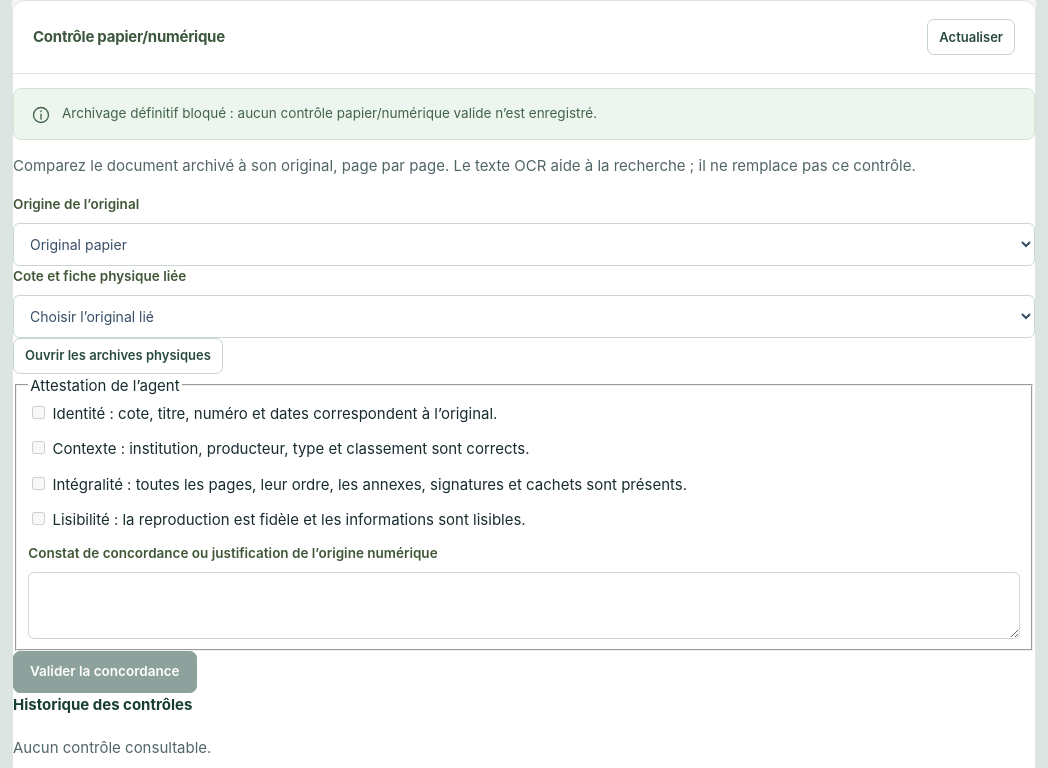
Test case: explique le blocage et présente la cote et le chemin physique complet
The width and height of the screenshot is (1048, 768).
Select "M-001/DEC/2026/001 — Décret de recette" in the dropdown labelled "Cote et fiche physique liée": (524, 316) [13,295,1035,338]
(page scrolled)
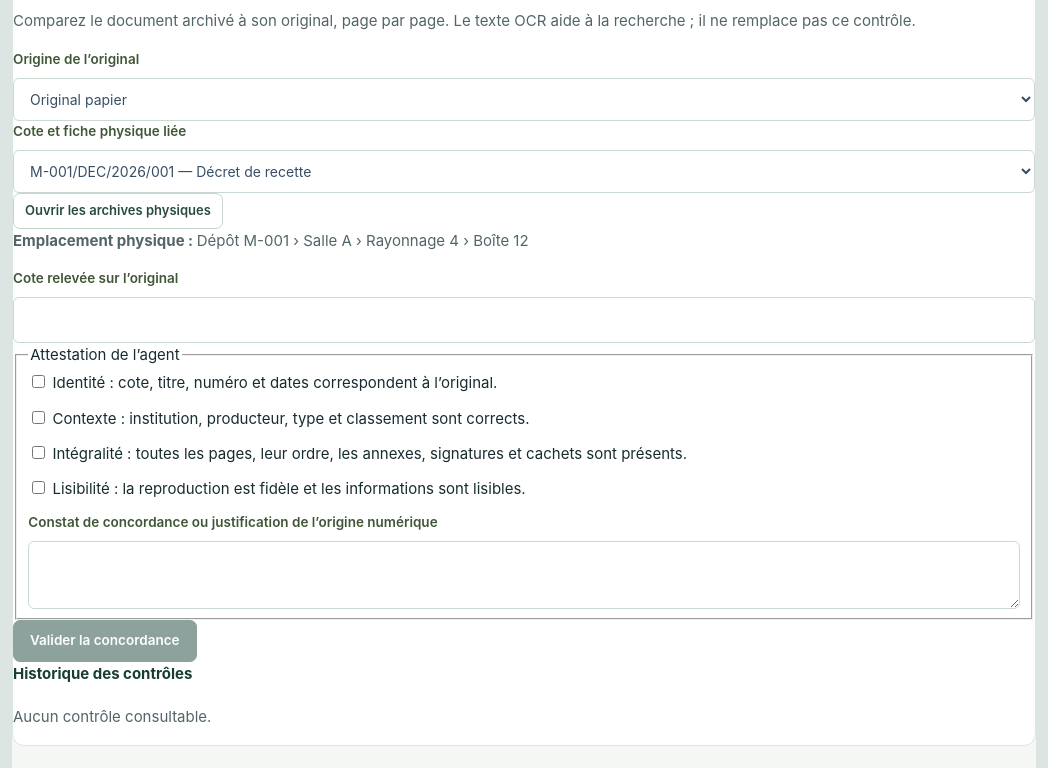
Expected: the button "Valider la concordance" is disabled, [13,620,196,662]
Expected: the text "Dépôt M-001 › Salle A › Rayonnage 4 › Boîte 12" is shown, [197,231,529,250]
